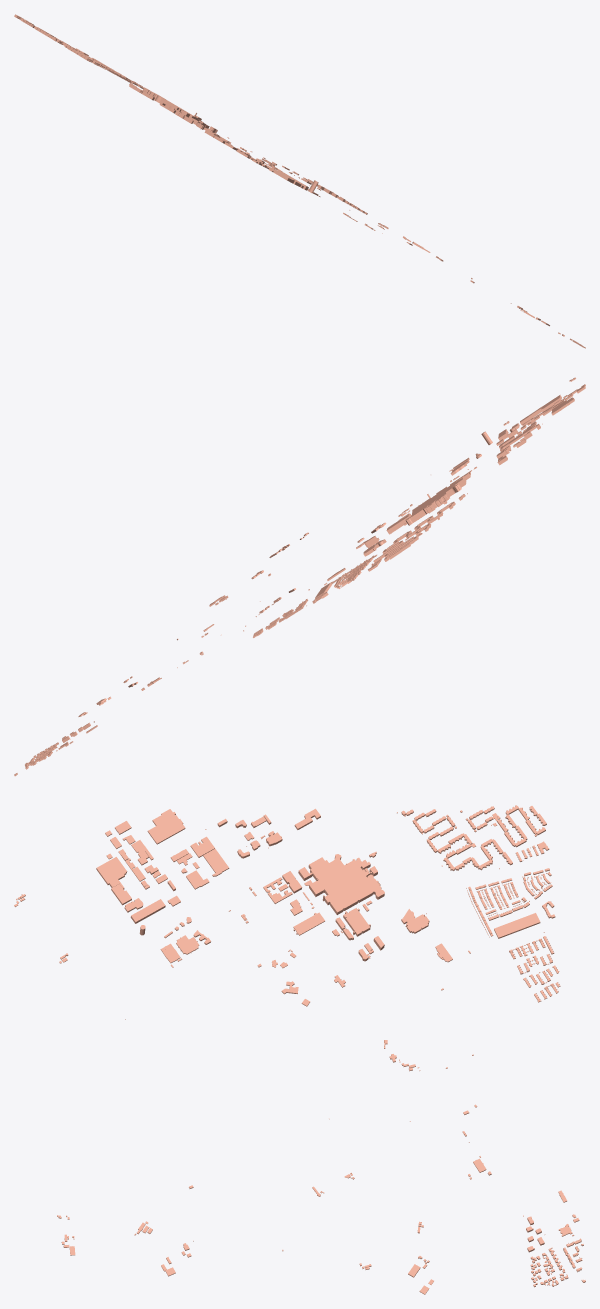
3 renders of one model, top to bottom at view 1: azimuth 30°, elevation 25°; view 2: azimuth 150°, elevation 25°; view 3: azimuth 270°, elevation 25°, orthographic. The views are drawn at different scales.
Size of the model in its own units: 1960 by 1516 by 2538.
